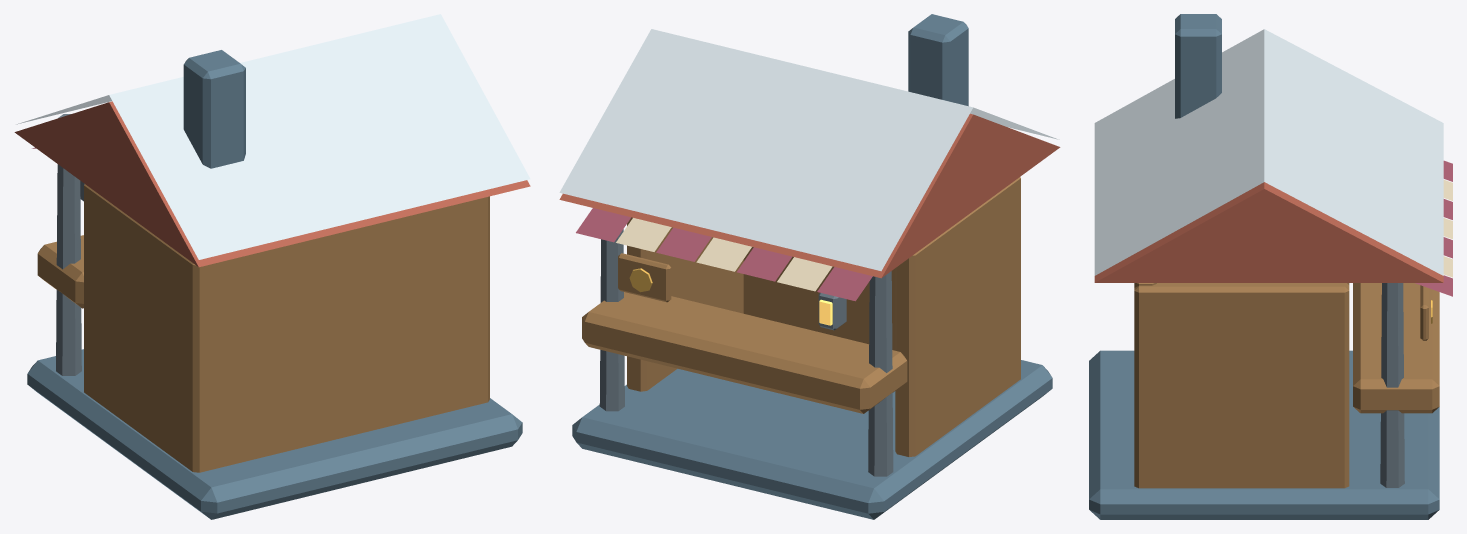
Rendered from loja_mascate.glb.
3 views of the same model, side by side, from view 1: azimuth 30°, elevation 25°; view 2: azimuth 150°, elevation 25°; view 3: azimuth 270°, elevation 25° (orthographic). The views are drawn at different scales.
Visible parts, largest first — view 1: neve_loja_mascate; view 2: neve_loja_mascate; view 3: neve_loja_mascate.
Part boxes in pixels (x1=…): neve_loja_mascate: x1=14, y1=14, x2=530, y2=519; neve_loja_mascate: x1=559, y1=14, x2=1060, y2=519; neve_loja_mascate: x1=1089, y1=14, x2=1452, y2=519.
Bounding box in the file's own units: 1.92 × 2.26 × 1.93.
